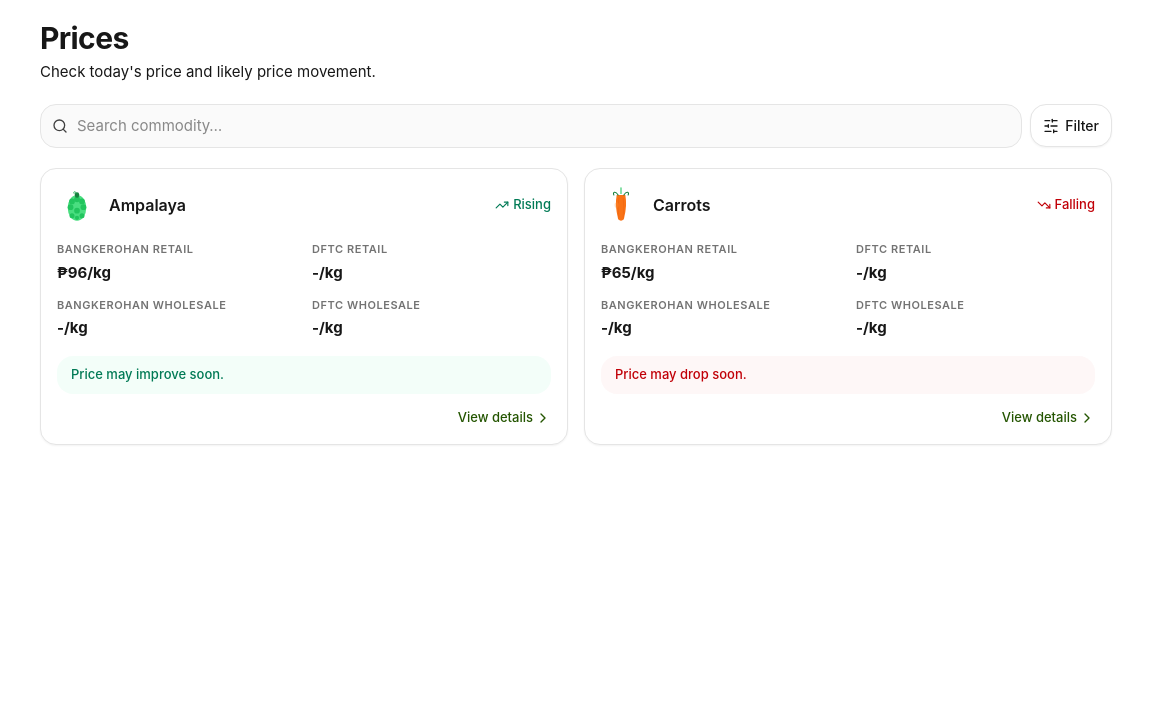
Test: Farmer prices page › saves filter changes when clicking Save button in filter drawer
Expected: the text "Ampalaya" is shown, [109, 193, 186, 217]
Expected: the text "Carrots" is shown, [653, 193, 710, 217]
Open filter drawer
What coordinates should you click on to do the following:
click the button with aria-label "Open filter drawer"
I would click on:
 (1071, 126)
Its box is [1030, 104, 1112, 147].
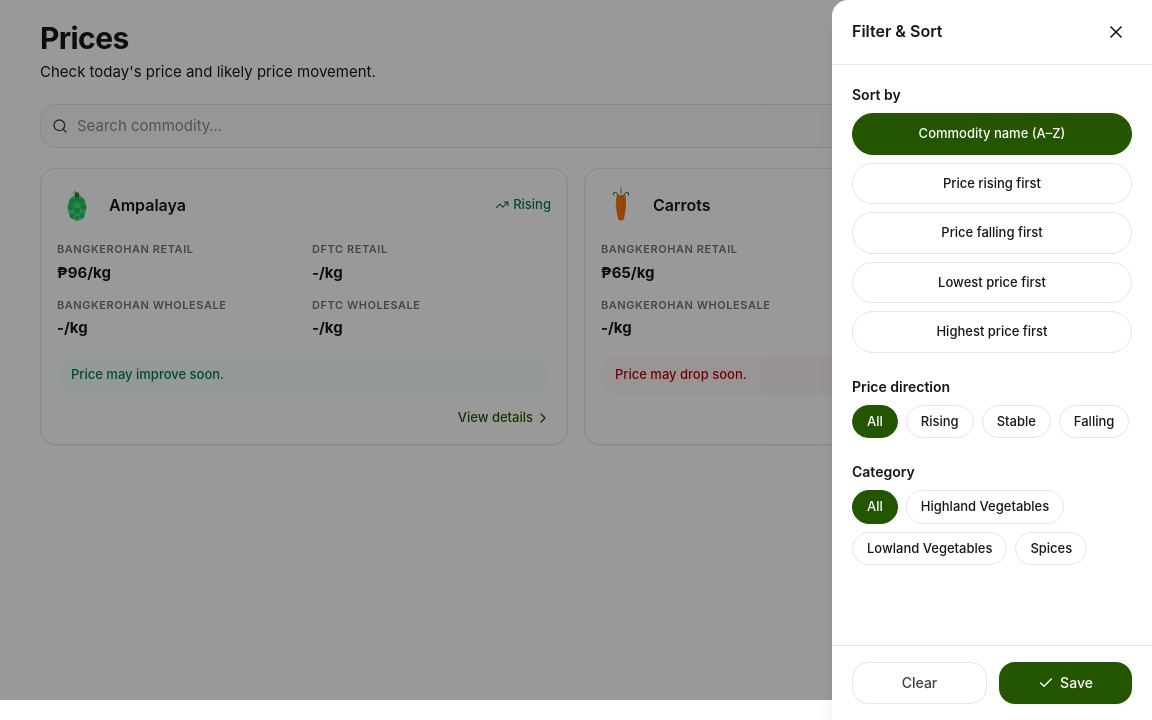
Click "Highland Vegetables" chip inside the drawer
What coordinates should you click on to do the following:
click the button "Highland Vegetables"
I would click on:
 (985, 507)
Its box is [906, 490, 1064, 524].
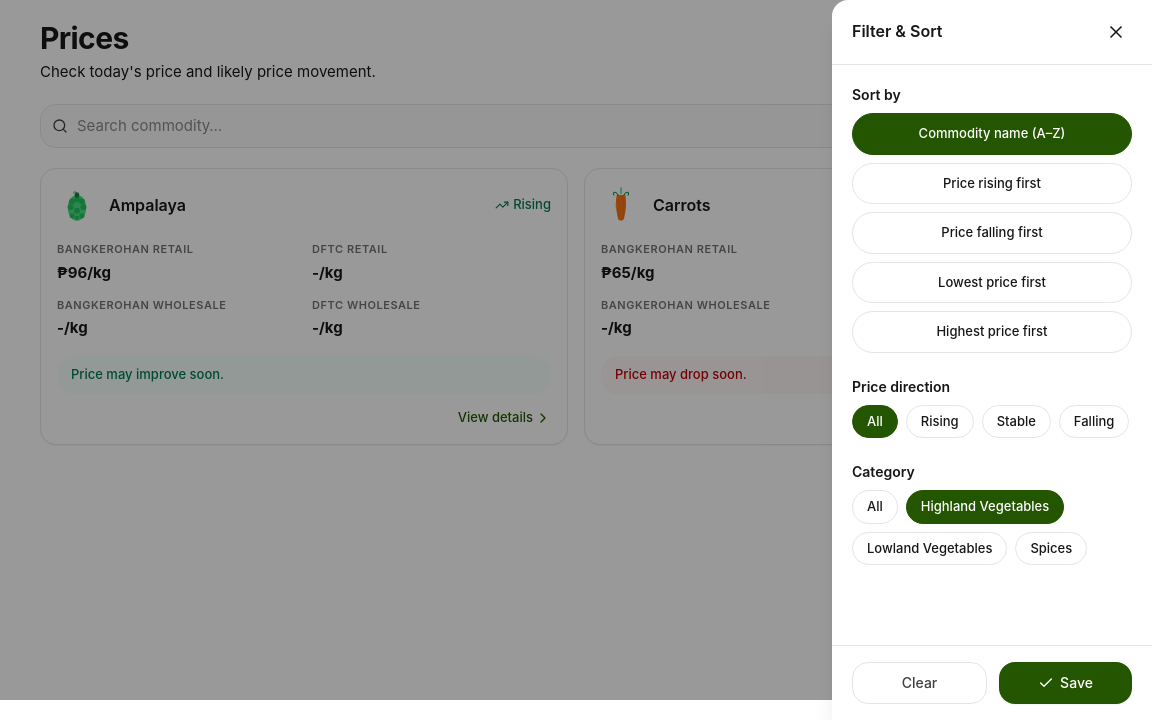
Now the button "Save" is shown
What coordinates should you click on to do the following:
click the button "Save"
I would click on:
 (1066, 683)
Its box is [999, 662, 1132, 704].
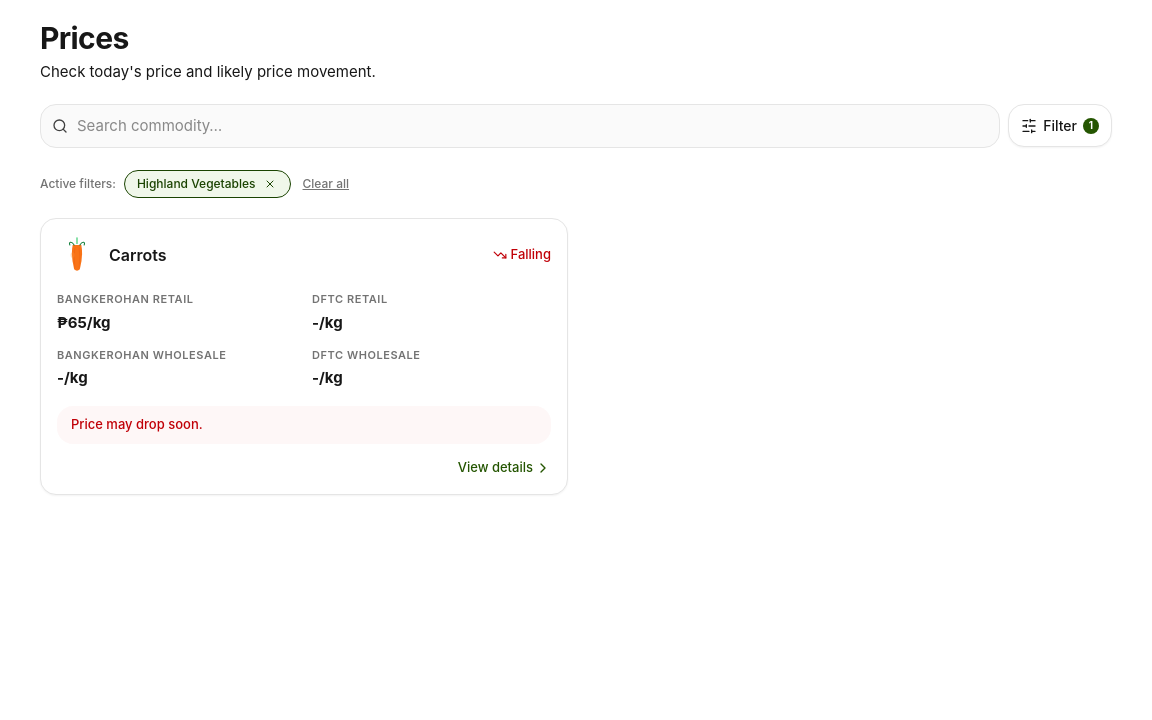
Expected: the text "Carrots" is shown, [109, 243, 166, 267]
Now the text "Ampalaya" is gone
